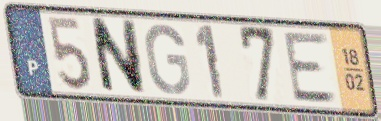1: (193, 22, 227, 102)
5: (45, 14, 93, 92)
7: (235, 22, 279, 107)
E: (281, 31, 341, 105)
G: (142, 22, 192, 97)
N: (87, 15, 148, 97)
